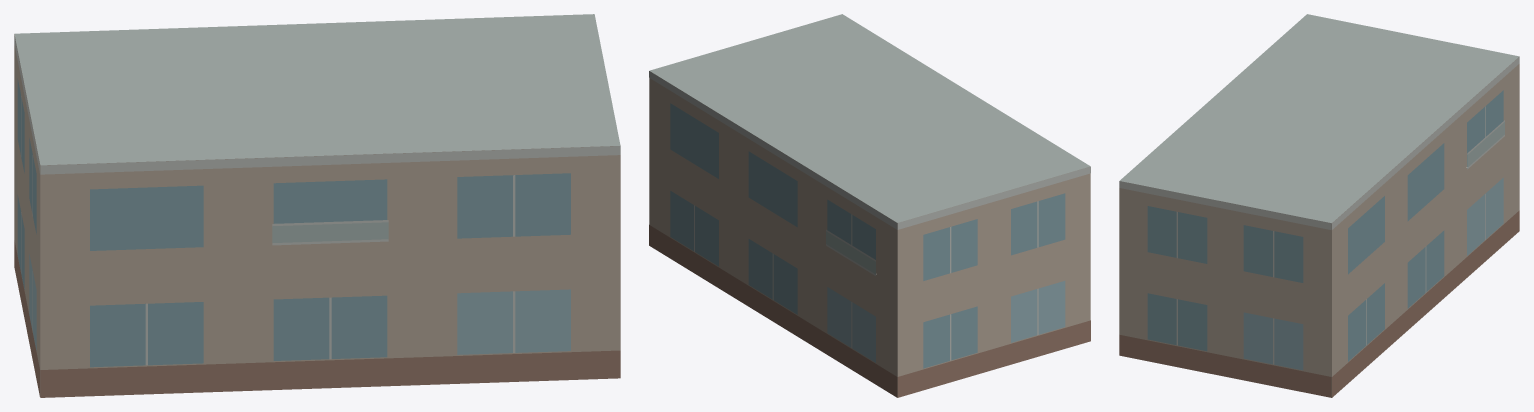
The model's file is survey-upis-32717914.glb.
The picture shows the model from 3 angles, left to right: view 1: azimuth 30°, elevation 25°; view 2: azimuth 150°, elevation 25°; view 3: azimuth 270°, elevation 25°; orthographic projection. The views are drawn at different scales.
Parts seen in each view (by area): view 1: survey-upis-32717914.tmp; view 2: survey-upis-32717914.tmp; view 3: survey-upis-32717914.tmp.
Part boxes in pixels (x1,y1,x2,y2): survey-upis-32717914.tmp: [14, 14, 620, 397]; survey-upis-32717914.tmp: [649, 14, 1090, 397]; survey-upis-32717914.tmp: [1119, 14, 1519, 397].
Size of the model in its own units: 15.68 by 6.1 by 12.68.
